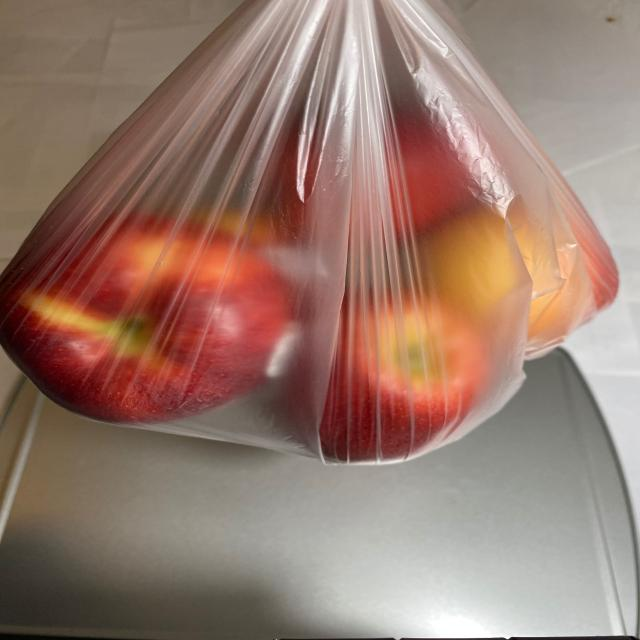apple: (4, 92, 622, 466)
